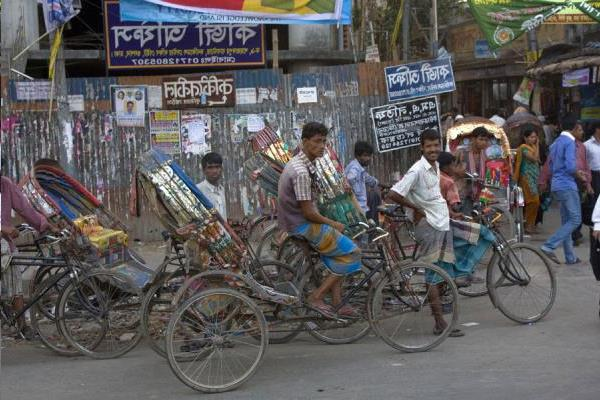Rickshaw: (132, 143, 399, 378), (312, 129, 544, 328), (9, 141, 189, 361), (433, 109, 528, 297), (247, 112, 302, 163)
